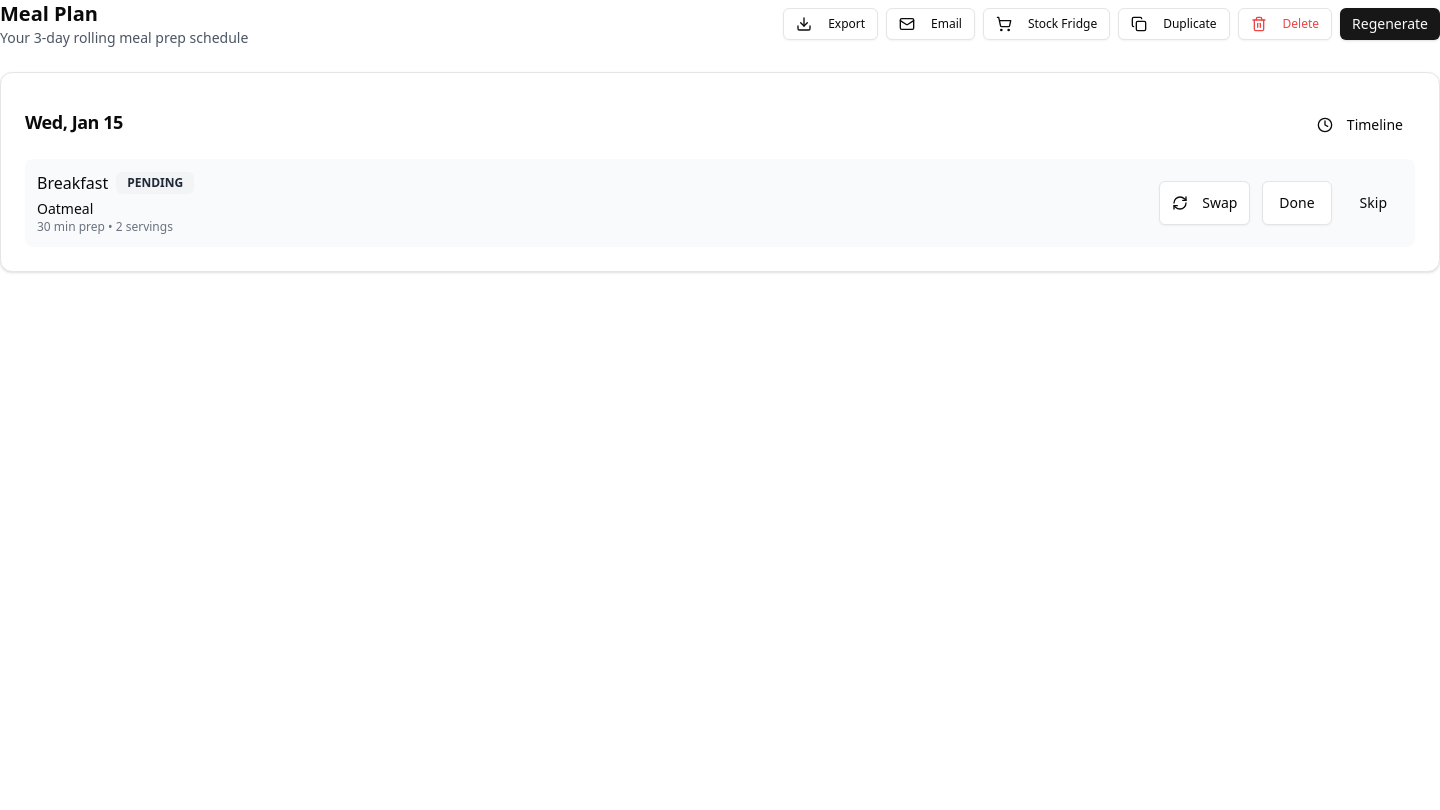
Test: PlanView › delete plan action › should close confirmation dialog when Cancel is clicked
Click the button with aria-label "delete meal plan" at x=1285, y=24, box [1238,8,1332,40]
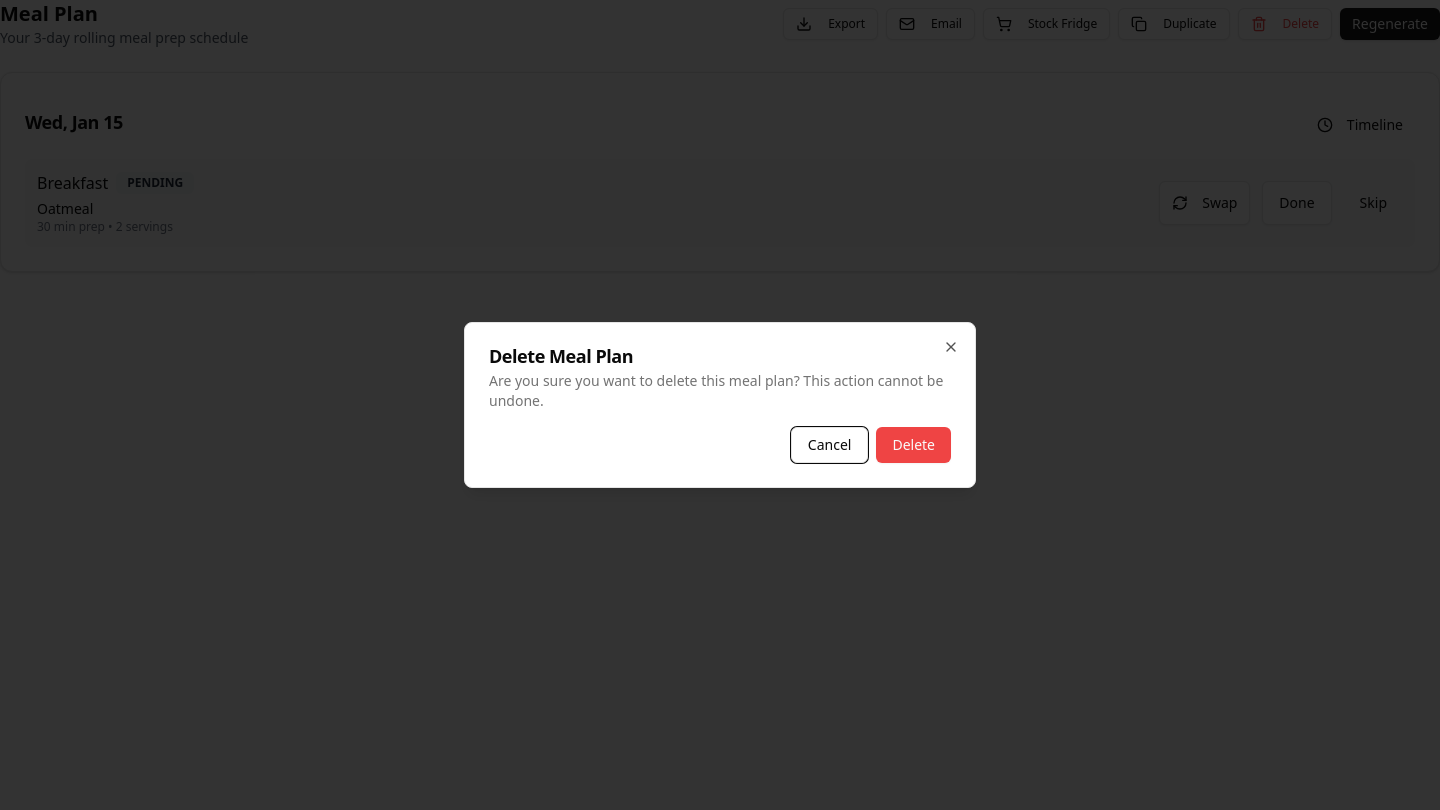
Check: the dialog is shown, box [464,322,976,488]
Click the button "Cancel" at x=830, y=445, box [791,427,868,463]
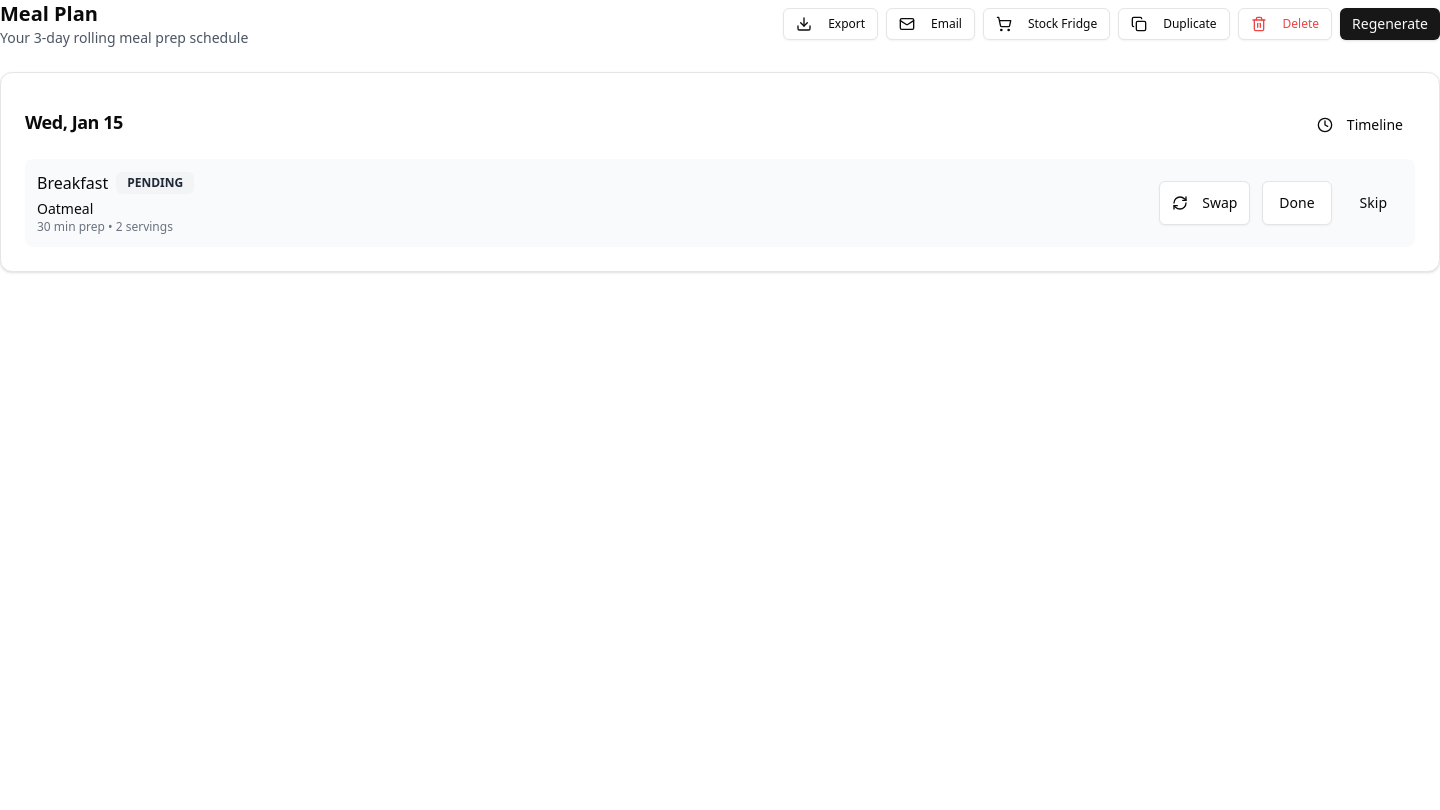
Check: the dialog is gone
